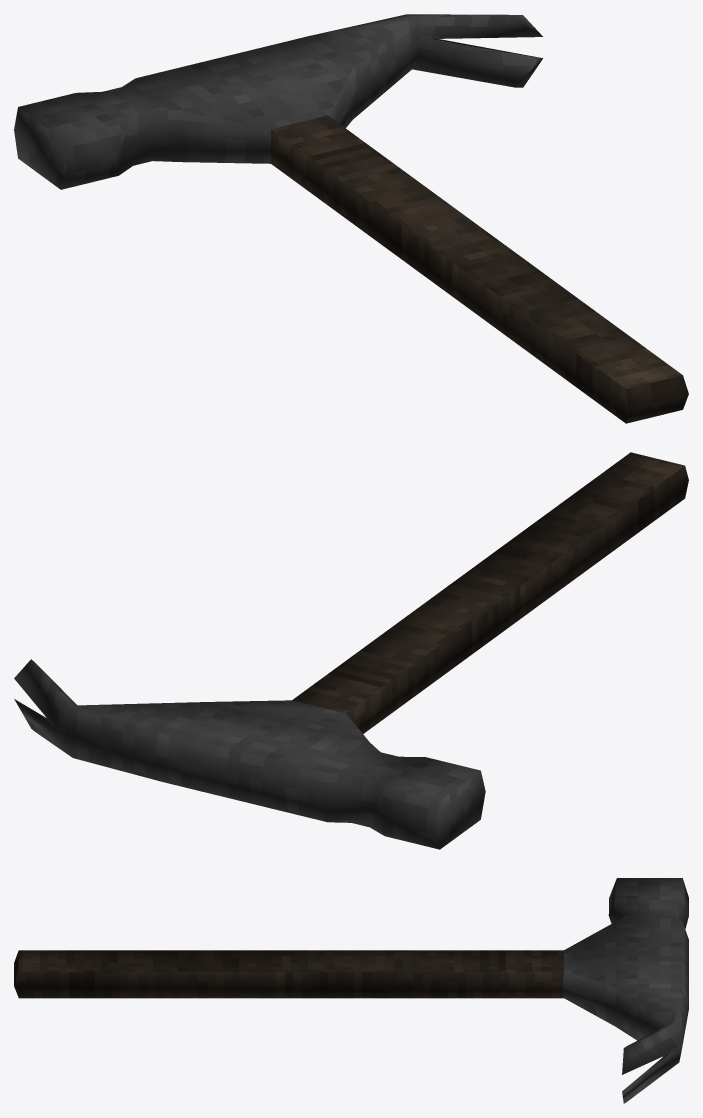
The model's file is hammer.glb.
The picture shows the model from 3 angles, top to bottom: view 1: azimuth 30°, elevation 25°; view 2: azimuth 150°, elevation 25°; view 3: azimuth 270°, elevation 25°; orthographic projection. The views are drawn at different scales.
Parts seen in each view (by area): view 1: Plane; view 2: Plane; view 3: Plane.
Boxes of the visible parts, bbox=[...] form: Plane: bbox=[14, 14, 688, 423]; Plane: bbox=[14, 452, 688, 849]; Plane: bbox=[14, 878, 688, 1103].
Bounding box in the file's own units: 0.2525 × 0.0361 × 0.3957.
2 materials, 2 textured.
